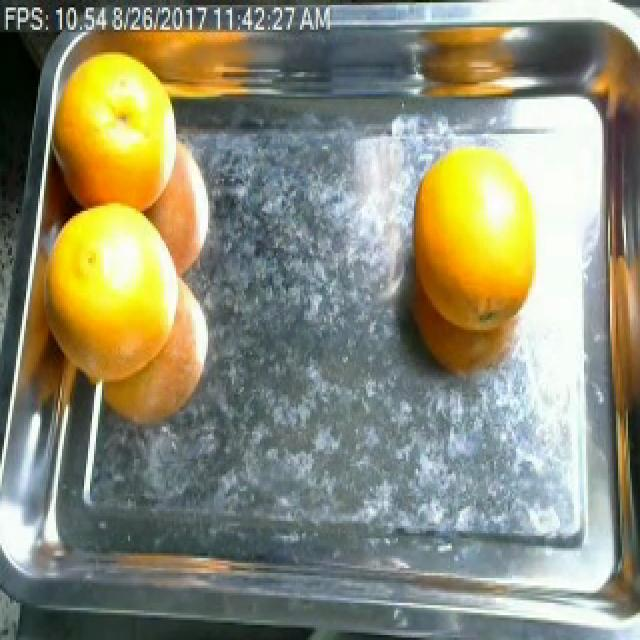Fruit: (396, 126, 556, 328), (408, 22, 528, 97)
